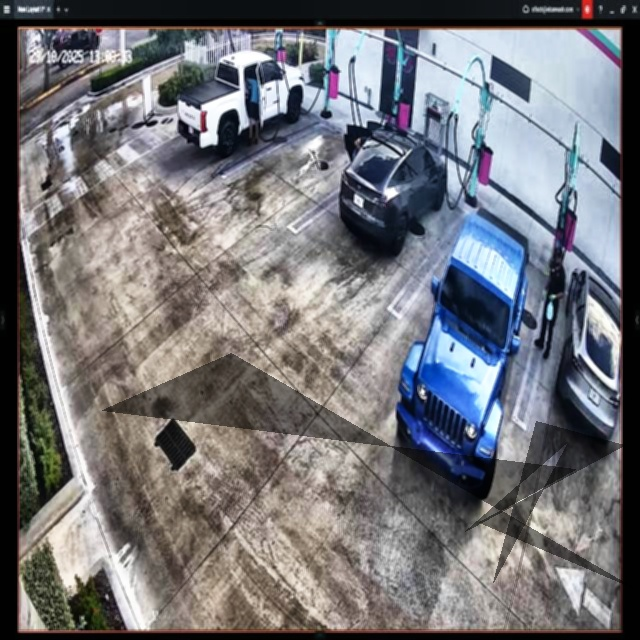Car: (397, 206, 528, 499), (343, 121, 447, 245), (180, 52, 303, 152)
